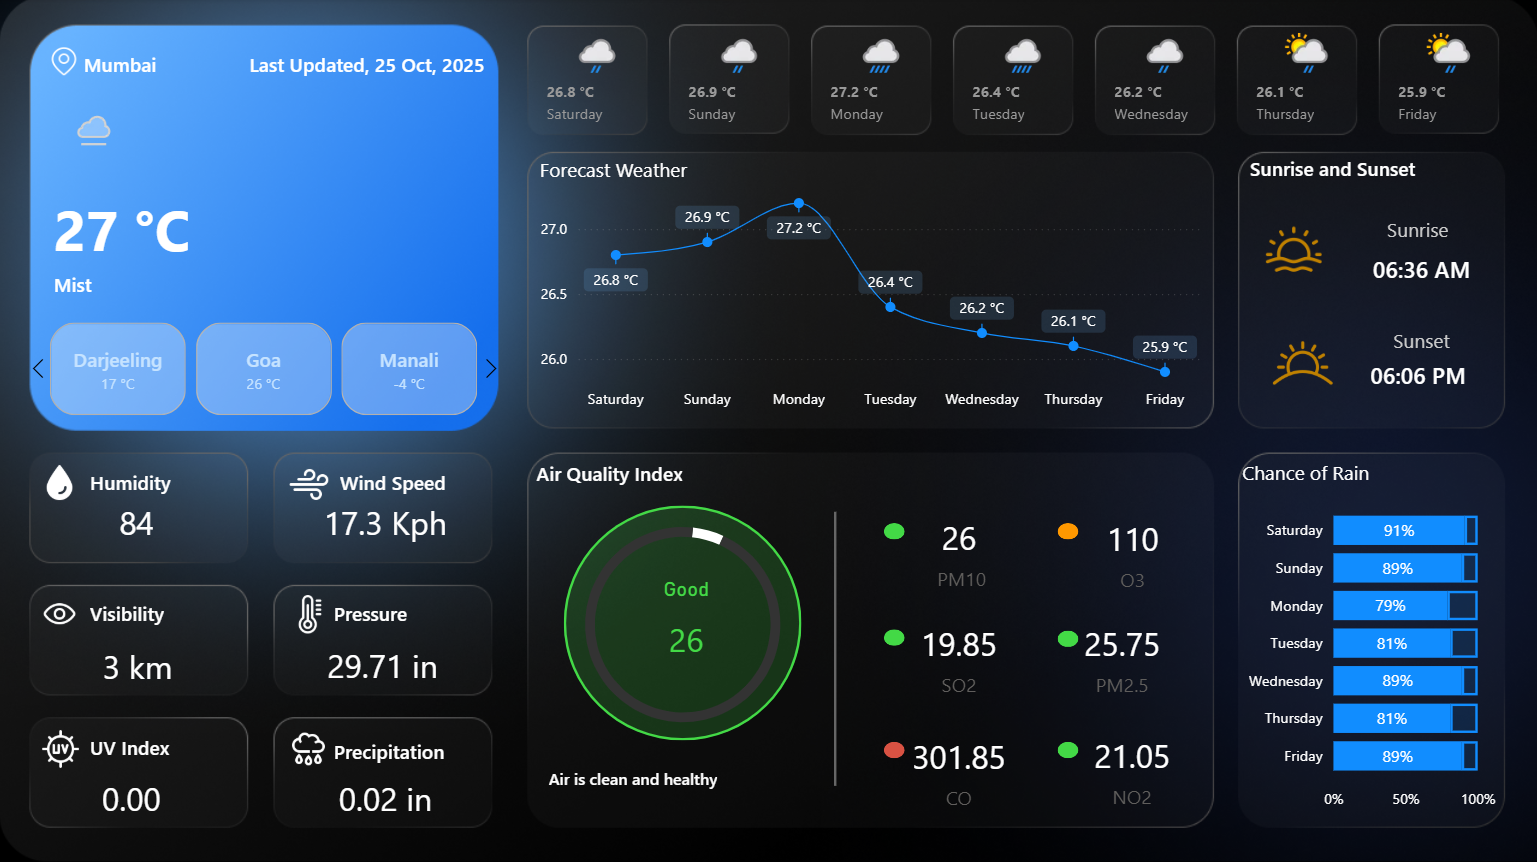

The dashboard page shown, as its layout file describes it:
{"tool":"powerbi","page":{"name":"Page 1","canvas":[1280,720],"ordinal":0},"visuals":[{"type":"shape","box":[468.6,422.1,197.7,195.3],"z":0},{"type":"advancedSlicerVisual","fields":{"Values":["Location.location.name"],"Label":["_Measure.Curr_Temp_C"]},"box":[17.1,265,408,87.9],"z":1000},{"type":"shape","box":[44.6,150.9,190.2,81.3],"z":2000},{"type":"shape","box":[44.6,217.8,359.4,39.4],"z":3000},{"type":"shape","box":[69.8,34.9,120.9,39.5],"z":4000},{"type":"shape","box":[190.7,34.9,212.8,39.5],"z":5000},{"type":"image","box":[36,32.6,33.7,40.7],"z":6000},{"type":"cardVisual","fields":{"Data":["Min(Current.current.condition.icon)"]},"box":[42,64.3,112.8,97.1],"z":7000},{"type":"image","box":[29.1,382.6,40.7,40.7],"z":8000},{"type":"shape","box":[74.4,382.6,120.9,39.5],"z":9000},{"type":"image","box":[29.1,491.9,40.7,40.7],"z":10000},{"type":"shape","box":[74.4,491.9,120.9,39.5],"z":11000},{"type":"image","box":[234.9,382.6,44.2,44.2],"z":12000},{"type":"shape","box":[282.6,382.6,120.9,39.5],"z":13000},{"type":"image","box":[234.9,602.3,43,43],"z":14000},{"type":"image","box":[237.2,491.9,41.9,41.9],"z":15000},{"type":"image","box":[25.6,602.3,48.8,43],"z":16000},{"type":"shape","box":[74.4,602.3,120.9,39.5],"z":17000},{"type":"shape","box":[277.9,491.9,120.9,39.5],"z":18000},{"type":"shape","box":[277.9,605.8,120.9,39.5],"z":19000},{"type":"card","fields":{"Values":["Sum(Current.current.humidity)"]},"box":[74.3,412.5,79.8,49.5],"z":20000},{"type":"card","fields":{"Values":["_Measure.wind_speed1"]},"box":[258.1,412.8,125.6,48.8],"z":21000},{"type":"card","fields":{"Values":["_Measure.visibility"]},"box":[61.6,531.6,106.6,50.1],"z":22000},{"type":"card","fields":{"Values":["_Measure.pressure"]},"box":[264.2,530.9,108.5,49.7],"z":23000},{"type":"card","fields":{"Values":["Sum(Current.current.uv)"]},"box":[70.1,642.2,79.8,49.5],"z":24000},{"type":"card","fields":{"Values":["_Measure.precip_"]},"box":[266.8,642.1,107.2,49.7],"z":25000},{"type":"advancedSlicerVisual","fields":{"Values":["Forecast_Day.Day"]},"box":[436.6,16.7,829.5,105.3],"z":26000},{"type":"shape","box":[1038.9,122,152.2,39.4],"z":27000},{"type":"shape","box":[1134.7,170.5,87.9,42],"z":28000},{"type":"shape","box":[1115.1,255.8,133.7,57],"z":29000},{"type":"shape","box":[1115,196.8,133.8,56.4],"z":30000},{"type":"shape","box":[1115.1,284.9,127.9,57],"z":31000},{"type":"image","box":[1044.2,181,63,56.4],"z":32000},{"type":"image","box":[1040.7,265.1,86,76.7],"z":33000},{"type":"hundredPercentStackedBarChart","title":"  Chance of Rain","fields":{"Y":["Sum(Forecast_Day.forecast.forecastday.day.daily_chance_of_rain)","_Measure.Left_Value_Rain"],"Category":["Forecast_Day.Day"]},"box":[1027.9,383.7,220.9,301.2],"z":34000},{"type":"shape","box":[446,375.2,137.7,39.4],"z":35000},{"type":"card","fields":{"Values":["Sum(Current.current.air_quality.o3)"]},"box":[879.1,424.4,125.6,75.6],"z":36000},{"type":"card","fields":{"Values":["Sum(Current.current.air_quality.pm2_5)"]},"box":[869.8,511.6,126.7,75.6],"z":37000},{"type":"card","fields":{"Values":["Sum(Current.current.air_quality.no2)"]},"box":[877.9,604.7,126.7,74.4],"z":38000},{"type":"card","fields":{"Values":["Sum(Current.current.air_quality.pm10)"]},"box":[734.9,423.3,125.6,75.6],"z":39000},{"type":"card","fields":{"Values":["Sum(Current.current.air_quality.so2)"]},"box":[734.9,511.6,125.6,75.6],"z":40000},{"type":"card","fields":{"Values":["Sum(Current.current.air_quality.co)"]},"box":[734.9,605.8,125.6,74.4],"z":41000},{"type":"shape","box":[734.9,436,17.4,14],"z":42000},{"type":"shape","box":[734.9,524.4,17.4,14],"z":43000},{"type":"shape","box":[879.1,436,17.4,14],"z":44000},{"type":"shape","box":[879.1,525.6,17.4,14],"z":45000},{"type":"shape","box":[734.9,618.6,17.4,14],"z":46000},{"type":"shape","box":[879.1,618.6,17.4,14],"z":47000},{"type":"shape","box":[619.8,426.7,150,227.9],"z":48000},{"type":"card","fields":{"Values":["Sum(Current.current.air_quality.pm10)"]},"box":[515.1,481.4,110.5,88.4],"z":49000},{"type":"donutChart","fields":{"Y":["Sum(Current.current.air_quality.pm10)","_Measure.Left_value_PM10"]},"box":[461.6,398.8,212.8,244.2],"z":50000},{"type":"shape","box":[455.8,619.8,222.1,59.3],"z":51000},{"type":"lineChart","title":"Forecast Weather","fields":{"Y":["Sum(Forecast_Day.forecast.forecastday.day.avgtemp_c)"],"Category":["Forecast_Day.Day"]},"box":[444.2,131.4,560.5,220.9],"z":52000}]}

Visuals, with their boxes in screenshot pixels (x1, y1, x2, y2), scaled from the page's 1280x720 canvas onto the 1537x862 screenshot:
shape: locate(563, 505, 800, 739)
advancedSlicerVisual - Location.location.name x _Measure.Curr_Temp_C: locate(21, 317, 510, 422)
shape: locate(54, 181, 282, 278)
shape: locate(54, 261, 485, 308)
shape: locate(84, 42, 229, 89)
shape: locate(229, 42, 485, 89)
image: locate(43, 39, 84, 88)
cardVisual - Min(Current.current.condition.icon): locate(50, 77, 186, 193)
image: locate(35, 458, 84, 507)
shape: locate(89, 458, 235, 505)
image: locate(35, 589, 84, 638)
shape: locate(89, 589, 235, 636)
image: locate(282, 458, 335, 511)
shape: locate(339, 458, 485, 505)
image: locate(282, 721, 334, 773)
image: locate(285, 589, 335, 639)
image: locate(31, 721, 89, 773)
shape: locate(89, 721, 235, 768)
shape: locate(334, 589, 479, 636)
shape: locate(334, 725, 479, 773)
card - Sum(Current.current.humidity): locate(89, 494, 185, 553)
card - _Measure.wind_speed1: locate(310, 494, 461, 553)
card - _Measure.visibility: locate(74, 636, 202, 696)
card - _Measure.pressure: locate(317, 636, 448, 695)
card - Sum(Current.current.uv): locate(84, 769, 180, 828)
card - _Measure.precip_: locate(320, 769, 449, 828)
advancedSlicerVisual - Forecast_Day.Day: locate(524, 20, 1520, 146)
shape: locate(1247, 146, 1430, 193)
shape: locate(1363, 204, 1468, 254)
shape: locate(1339, 306, 1500, 374)
shape: locate(1339, 236, 1500, 303)
shape: locate(1339, 341, 1493, 409)
image: locate(1254, 217, 1330, 284)
image: locate(1250, 317, 1353, 409)
"  Chance of Rain" hundredPercentStackedBarChart: locate(1234, 459, 1500, 820)
shape: locate(536, 449, 701, 496)
card - Sum(Current.current.air_quality.o3): locate(1056, 508, 1206, 599)
card - Sum(Current.current.air_quality.pm2_5): locate(1044, 612, 1197, 703)
card - Sum(Current.current.air_quality.no2): locate(1054, 724, 1206, 813)
card - Sum(Current.current.air_quality.pm10): locate(882, 507, 1033, 597)
card - Sum(Current.current.air_quality.so2): locate(882, 612, 1033, 703)
card - Sum(Current.current.air_quality.co): locate(882, 725, 1033, 814)
shape: locate(882, 522, 903, 539)
shape: locate(882, 628, 903, 645)
shape: locate(1056, 522, 1077, 539)
shape: locate(1056, 629, 1077, 646)
shape: locate(882, 741, 903, 757)
shape: locate(1056, 741, 1077, 757)
shape: locate(744, 511, 924, 784)
card - Sum(Current.current.air_quality.pm10): locate(619, 576, 751, 682)
donutChart - Sum(Current.current.air_quality.pm10) x _Measure.Left_value_PM10: locate(554, 477, 810, 770)
shape: locate(547, 742, 814, 813)
"Forecast Weather" lineChart: locate(533, 157, 1206, 422)
